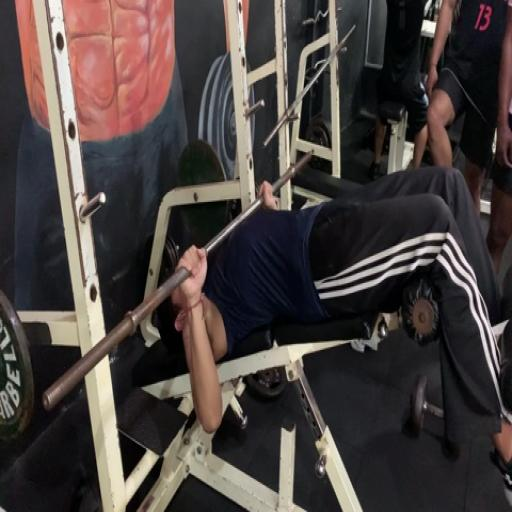exercise: (164, 164, 511, 510)
